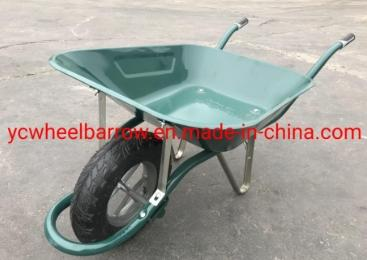ARROSOIR: (33, 14, 360, 260)
